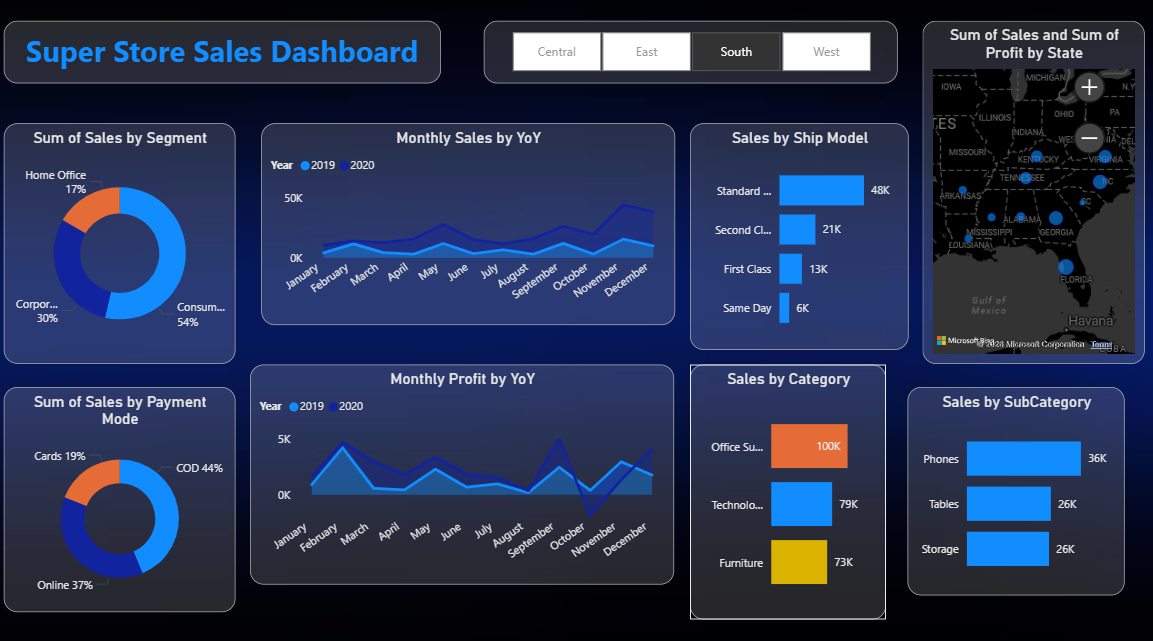

Layout of this report page (visuals, bound fields, positions):
{"tool":"powerbi","page":{"name":"Page 1","canvas":[1280,720],"ordinal":0},"visuals":[{"type":"clusteredBarChart","title":"Sales by Category","fields":{"Category":["SuperStore_Sales_Dataset.Category"],"Y":["Sum(SuperStore_Sales_Dataset.Sales)"]},"box":[768.4,403.4,215.4,279.9],"z":0},{"type":"clusteredBarChart","title":"Sales by SubCategory","fields":{"Category":["SuperStore_Sales_Dataset.Sub-Category"],"Y":["Sum(SuperStore_Sales_Dataset.Sales)"]},"box":[1007.2,428.1,238.8,229.2],"z":1000},{"type":"clusteredBarChart","title":"Sales by Ship Model","fields":{"Category":["SuperStore_Sales_Dataset.Ship Mode"],"Y":["Sum(SuperStore_Sales_Dataset.Sales)"]},"box":[768.6,138.6,240,248.6],"z":2000},{"type":"stackedAreaChart","title":"Monthly Profit by YoY","fields":{"Category":["SuperStore_Sales_Dataset.Order Date.Variation.Date Hierarchy.Month","SuperStore_Sales_Dataset.Order Date.Variation.Date Hierarchy.Day"],"Series":["SuperStore_Sales_Dataset.Order Date.Variation.Date Hierarchy.Year"],"Y":["Sum(SuperStore_Sales_Dataset.Profit)"]},"box":[285.7,402.9,465.7,241.4],"z":3000},{"type":"stackedAreaChart","title":"Monthly Sales by YoY","fields":{"Category":["SuperStore_Sales_Dataset.Order Date.Variation.Date Hierarchy.Month","SuperStore_Sales_Dataset.Order Date.Variation.Date Hierarchy.Day"],"Y":["Sum(SuperStore_Sales_Dataset.Sales)"],"Series":["SuperStore_Sales_Dataset.Order Date.Variation.Date Hierarchy.Year"]},"box":[297.1,138.6,454.3,221.4],"z":4000},{"type":"map","fields":{"Category":["SuperStore_Sales_Dataset.State"],"Size":["Sum(SuperStore_Sales_Dataset.Sales)"]},"box":[1024.3,25.7,244.3,377.1],"z":4001},{"type":"donutChart","fields":{"Category":["SuperStore_Sales_Dataset.Segment"],"Y":["Sum(SuperStore_Sales_Dataset.Sales)"]},"box":[15.7,138.6,254.3,264.3],"z":4002},{"type":"donutChart","fields":{"Category":["SuperStore_Sales_Dataset.Payment Mode"],"Y":["Sum(SuperStore_Sales_Dataset.Sales)"]},"box":[15.7,428.6,254.3,247.1],"z":4003},{"type":"slicer","fields":{"Values":["SuperStore_Sales_Dataset.Region"]},"box":[541.4,25.7,454.3,68.6],"z":4004},{"type":"textbox","box":[15.7,25.7,480,68.6],"z":4005}]}

Visuals, with their boxes in screenshot pixels (x1, y1, x2, y2), scaled from the page's 1280x720 canvas onto the 1153x641 screenshot:
"Sales by Category" clusteredBarChart: (x1=692, y1=359, x2=886, y2=608)
"Sales by SubCategory" clusteredBarChart: (x1=907, y1=381, x2=1122, y2=585)
"Sales by Ship Model" clusteredBarChart: (x1=692, y1=123, x2=909, y2=345)
"Monthly Profit by YoY" stackedAreaChart: (x1=257, y1=359, x2=677, y2=574)
"Monthly Sales by YoY" stackedAreaChart: (x1=268, y1=123, x2=677, y2=320)
map - SuperStore_Sales_Dataset.State x Sum(SuperStore_Sales_Dataset.Sales): (x1=923, y1=23, x2=1143, y2=359)
donutChart - SuperStore_Sales_Dataset.Segment x Sum(SuperStore_Sales_Dataset.Sales): (x1=14, y1=123, x2=243, y2=359)
donutChart - SuperStore_Sales_Dataset.Payment Mode x Sum(SuperStore_Sales_Dataset.Sales): (x1=14, y1=382, x2=243, y2=602)
slicer - SuperStore_Sales_Dataset.Region: (x1=488, y1=23, x2=897, y2=84)
textbox: (x1=14, y1=23, x2=447, y2=84)
